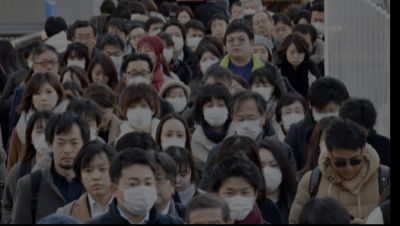with_mask: (119, 174, 158, 216), (219, 184, 255, 221), (234, 111, 262, 139), (126, 100, 152, 129), (203, 99, 228, 128), (261, 159, 282, 193), (32, 123, 52, 156), (160, 128, 186, 151), (282, 105, 305, 130), (165, 88, 187, 112), (312, 104, 340, 122), (126, 67, 151, 87), (252, 80, 272, 101), (167, 30, 184, 52), (104, 49, 122, 68), (186, 31, 203, 50), (67, 54, 87, 70), (311, 16, 325, 34), (162, 44, 174, 63)
without_mask: (81, 160, 111, 195), (53, 136, 83, 169), (331, 152, 363, 180), (226, 33, 251, 58), (32, 86, 58, 110), (155, 170, 172, 205), (74, 32, 95, 54), (36, 57, 59, 76), (175, 167, 192, 191), (252, 16, 272, 36), (91, 67, 110, 85), (286, 47, 304, 65), (272, 24, 290, 41), (211, 20, 227, 38), (130, 31, 145, 46), (253, 46, 269, 60)
